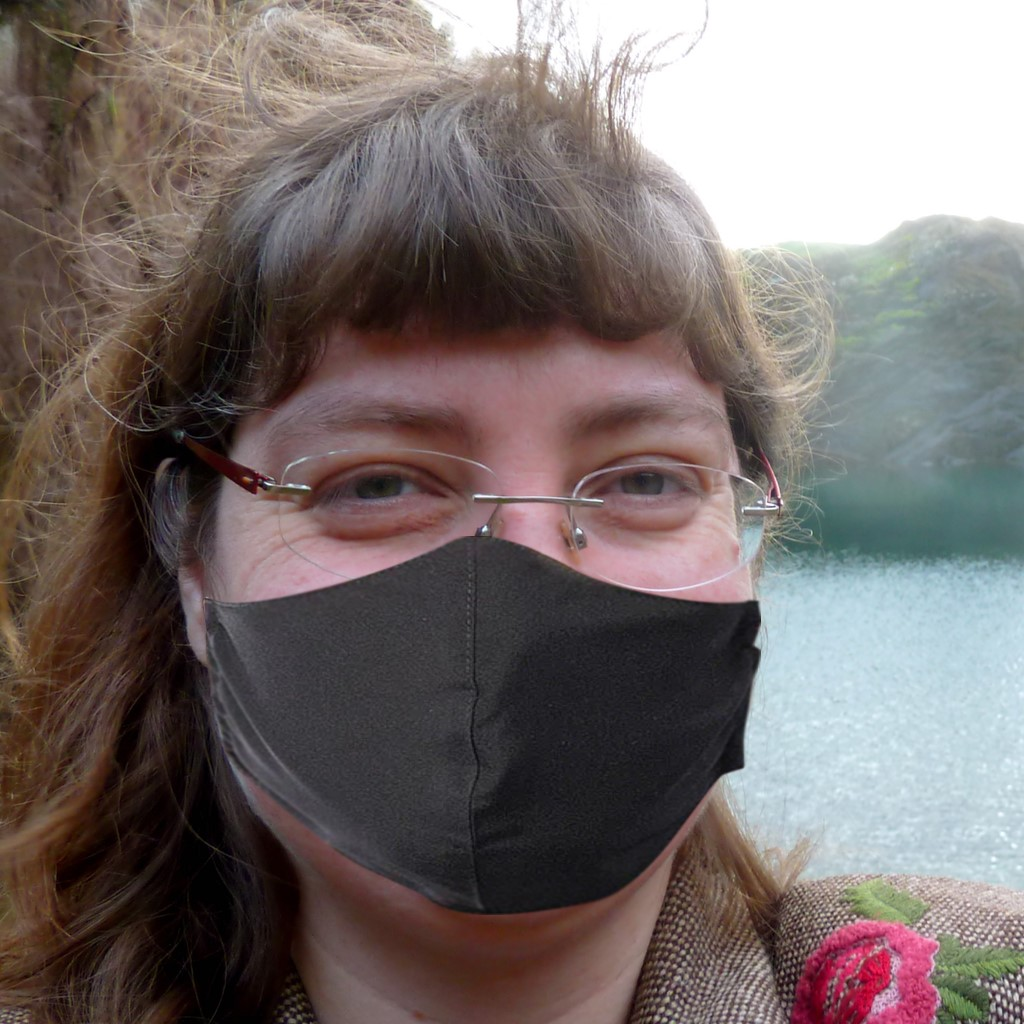con_mascara: (184, 226, 784, 940)
